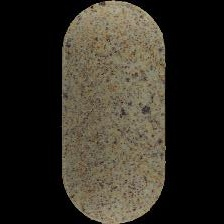52125-907: (0, 0, 224, 224)
